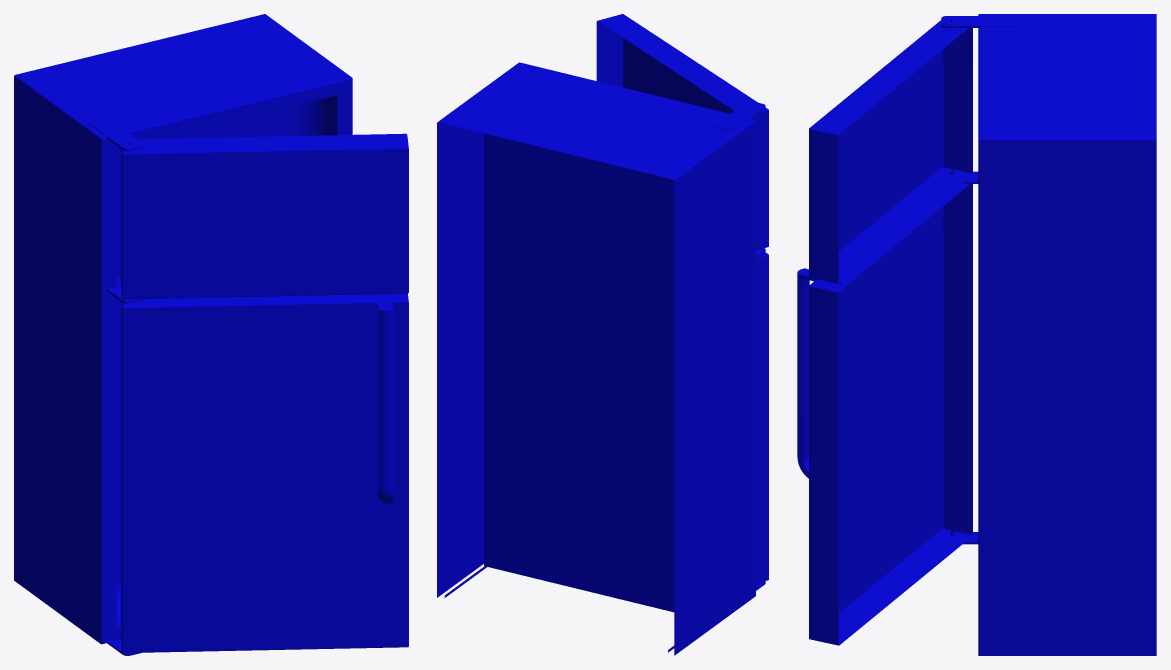
Rendered from KitchenFridge1.fbx.
3 views of the same model, side by side, from view 1: azimuth 30°, elevation 25°; view 2: azimuth 150°, elevation 25°; view 3: azimuth 270°, elevation 25° (orthographic). The views are drawn at different scales.
Parts seen in each view (by area): view 1: polySurface37, polySurface34, polySurface33; view 2: polySurface34, polySurface37, polySurface33; view 3: polySurface34, polySurface37, polySurface33.
Boxes of the visible parts, bbox=[...] form: polySurface37: bbox=[120, 133, 408, 652]; polySurface34: bbox=[14, 14, 352, 644]; polySurface33: bbox=[88, 117, 143, 151]; polySurface34: bbox=[437, 62, 755, 655]; polySurface37: bbox=[596, 14, 768, 583]; polySurface33: bbox=[713, 101, 765, 131]; polySurface34: bbox=[978, 14, 1156, 655]; polySurface37: bbox=[797, 20, 972, 645]; polySurface33: bbox=[941, 16, 1018, 27].
Bounding box in the file's own units: 102 × 198 × 124.
